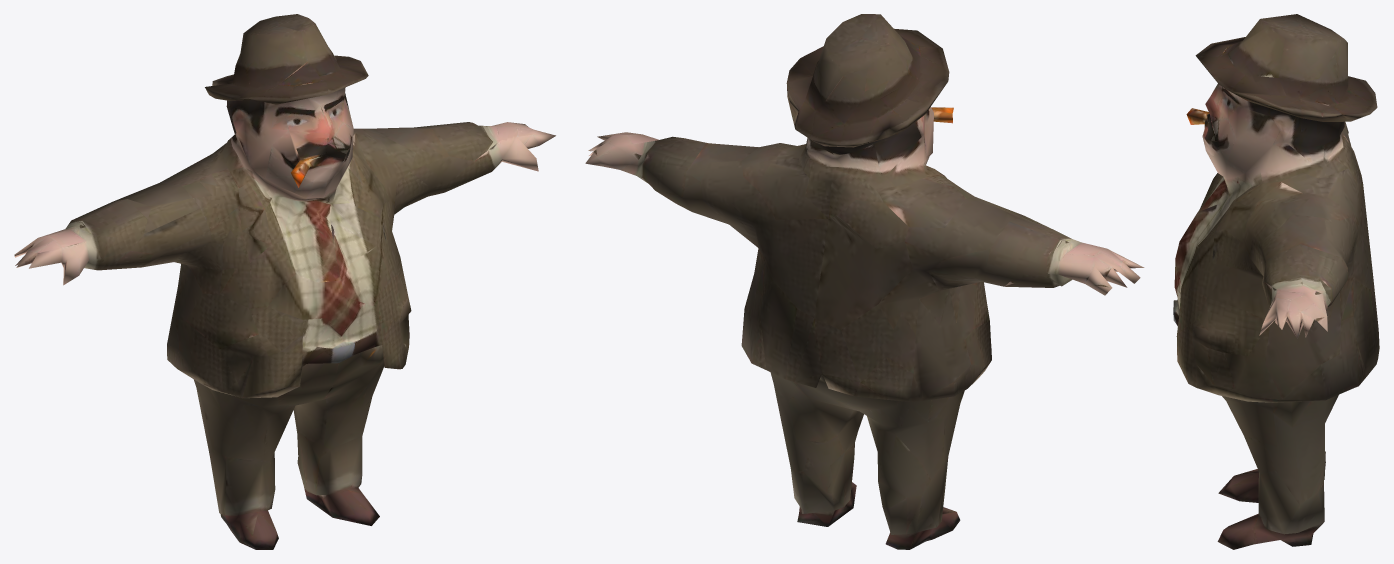
File: ronnie_low.glb
3 renders of one model, left to right at view 1: azimuth 30°, elevation 25°; view 2: azimuth 150°, elevation 25°; view 3: azimuth 270°, elevation 25°, orthographic. The views are drawn at different scales.
Parts seen in each view (by area): view 1: Mesh_0; view 2: Mesh_0; view 3: Mesh_0.
Boxes of the visible parts, box(x1,y1,x2,y2) form: Mesh_0: box(14, 14, 555, 549); Mesh_0: box(585, 14, 1144, 549); Mesh_0: box(1173, 14, 1379, 549).
Size of the model in its own units: 1.83 by 1.6 by 0.6.
1 material, 1 textured.
